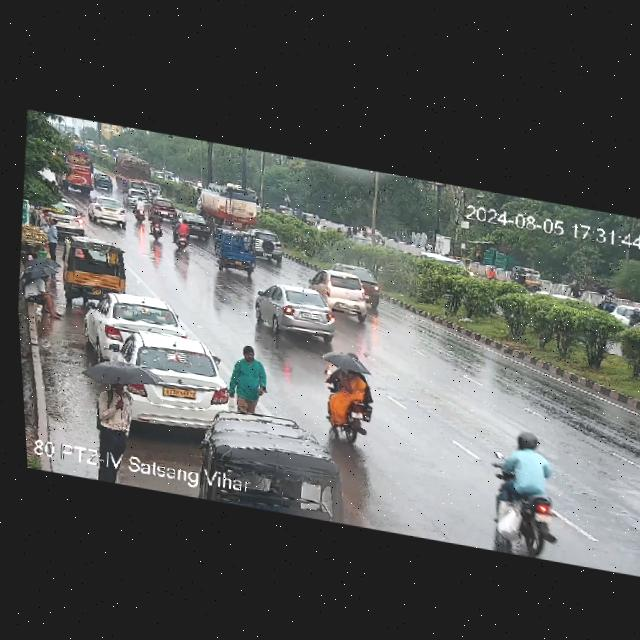bus: (54, 147, 97, 198)
car: (188, 397, 341, 522), (104, 327, 239, 442), (81, 286, 187, 362), (250, 277, 344, 348), (57, 234, 134, 307), (302, 261, 374, 319), (211, 228, 261, 278), (45, 199, 88, 237), (86, 193, 132, 227), (249, 228, 287, 263), (510, 263, 546, 293), (176, 211, 214, 238), (147, 196, 177, 219), (93, 171, 114, 190), (120, 187, 138, 205), (145, 180, 164, 197), (122, 179, 147, 191)
motorcycle: (479, 419, 567, 560), (317, 348, 378, 453), (170, 217, 198, 253), (145, 211, 168, 242), (130, 196, 148, 221)
person: (90, 359, 138, 453), (229, 345, 269, 414), (20, 269, 63, 321), (41, 216, 66, 260)
truck: (191, 175, 265, 234), (113, 153, 153, 186)
